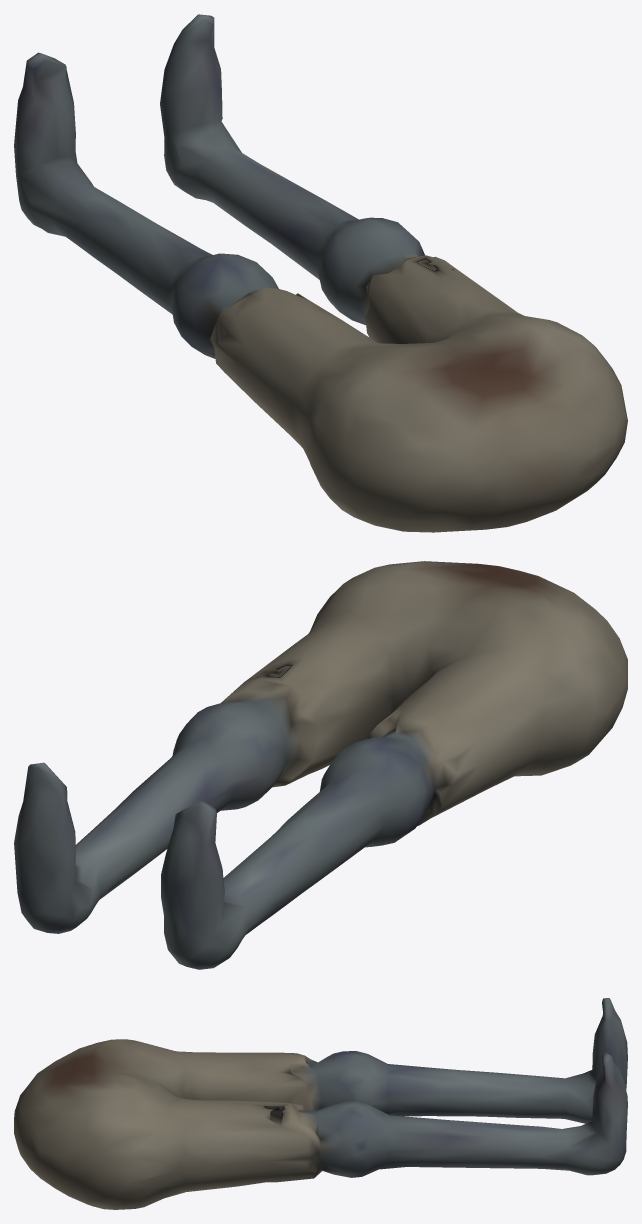
The model's file is bed_legs.glb.
The picture shows the model from 3 angles, top to bottom: view 1: azimuth 30°, elevation 25°; view 2: azimuth 150°, elevation 25°; view 3: azimuth 270°, elevation 25°; orthographic projection. The views are drawn at different scales.
Visible parts, largest first — view 1: bed_legs; view 2: bed_legs; view 3: bed_legs.
Part boxes in pixels (box(x1,y1,x2,y2)): bed_legs: box(14, 14, 627, 532); bed_legs: box(14, 561, 627, 969); bed_legs: box(14, 998, 627, 1209).
Bounding box in the file's own units: 0.3918 × 0.2898 × 1.02.
